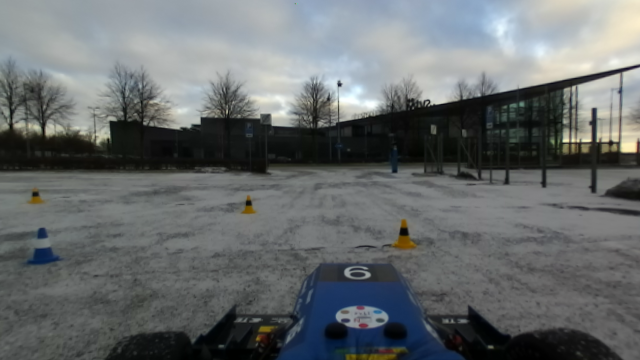yellow: (391, 216, 418, 252), (240, 193, 257, 216)
